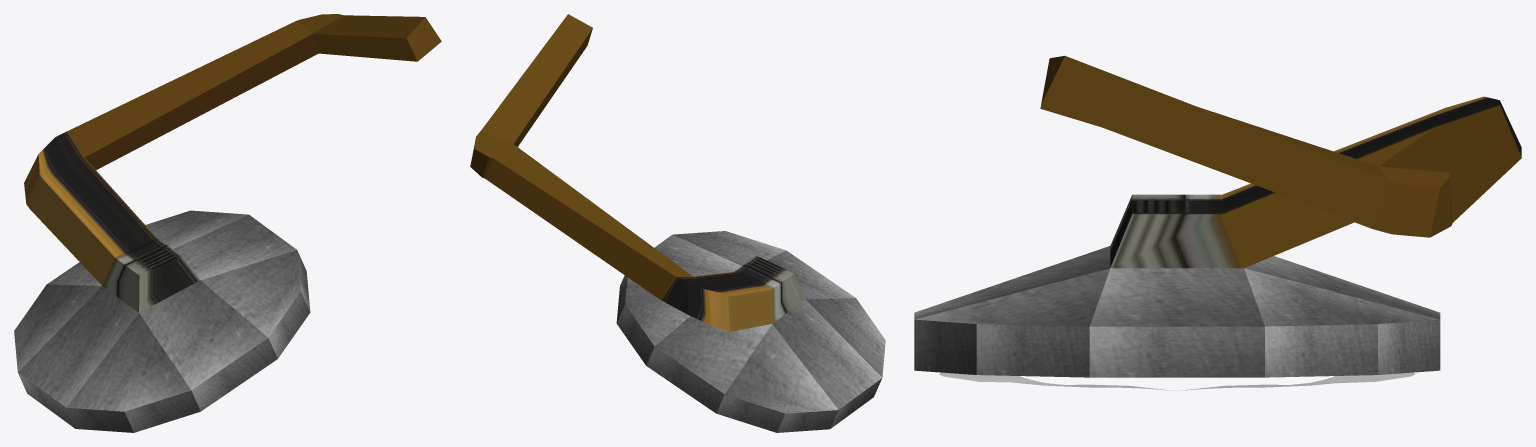
The model's file is light_arm.fbx.
The picture shows the model from 3 angles, left to right: view 1: azimuth 30°, elevation 25°; view 2: azimuth 150°, elevation 25°; view 3: azimuth 270°, elevation 25°; orthographic projection. The views are drawn at different scales.
Parts seen in each view (by area): view 1: SurgeryLight; view 2: SurgeryLight; view 3: SurgeryLight.
Part boxes in pixels (<box>): SurgeryLight: <box>14,14,441,432</box>; SurgeryLight: <box>470,14,885,432</box>; SurgeryLight: <box>914,56,1521,391</box>.
Bounding box in the file's own units: 269 × 233 × 212.
2 materials, 1 textured.
